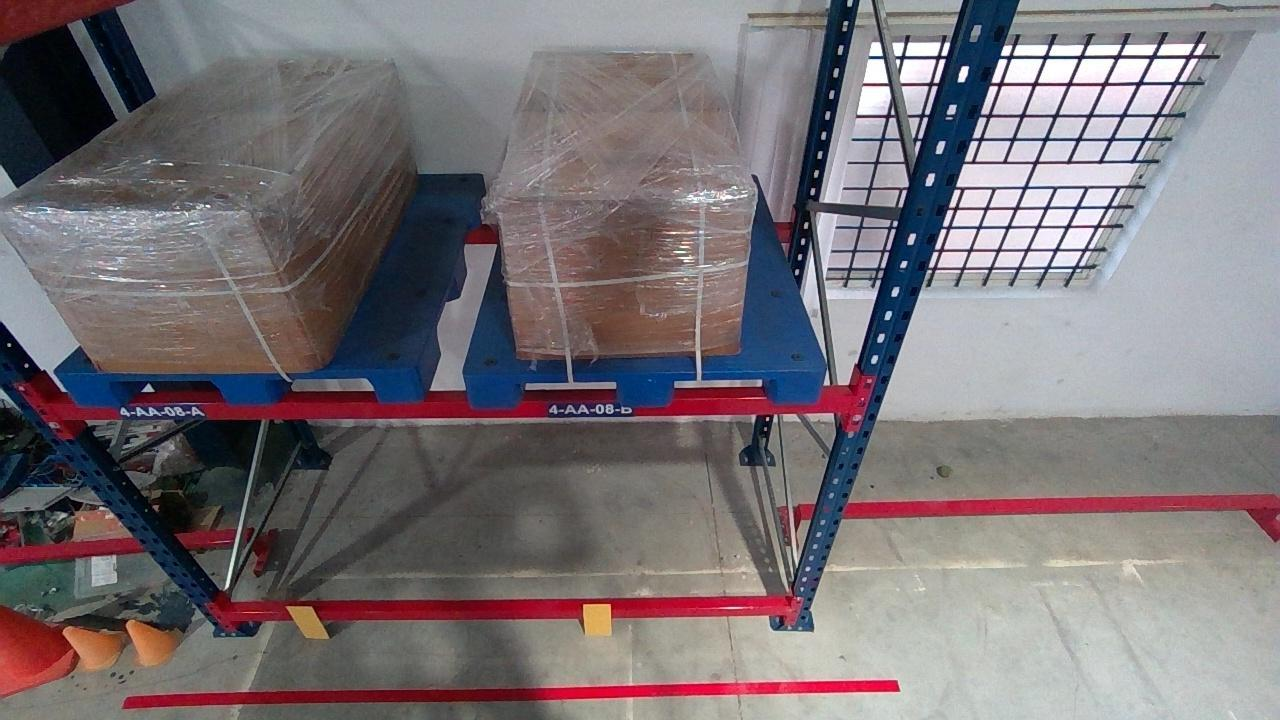h_rack: (41, 394, 857, 420), (224, 604, 786, 622)
orange_strip: (285, 605, 331, 638), (581, 603, 612, 636)
red_line: (119, 680, 900, 705)
small_pallet: (465, 370, 831, 406), (62, 370, 419, 403)
